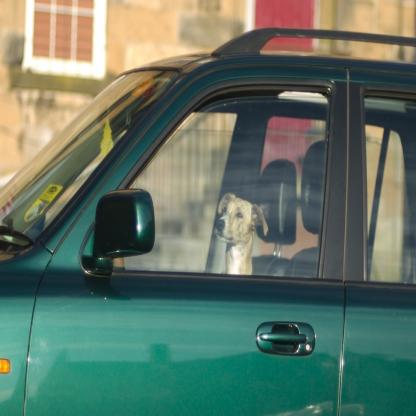Car: (1, 28, 416, 416)
